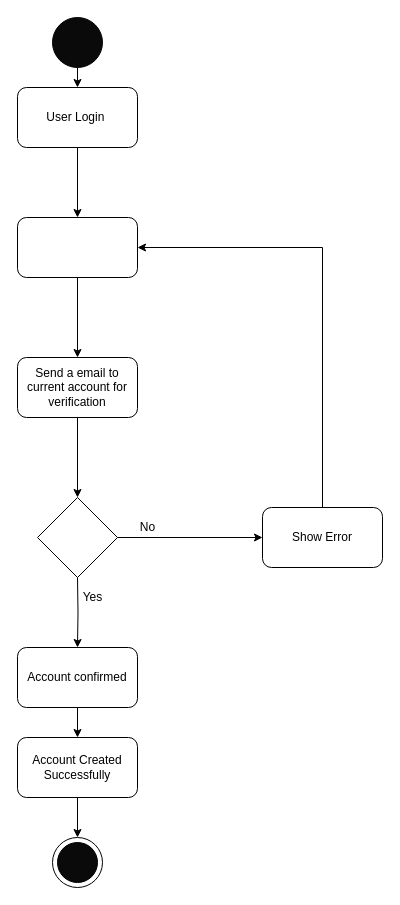
Some shapes in this 400 by 905 pixel diagram are drawn without their labels. The centre of each missing label's shape, as x and y in pixels:
"Click on Gmail/GitHub /Facebook button" belongs at [77,247].
"Verification" belongs at [77,537].
